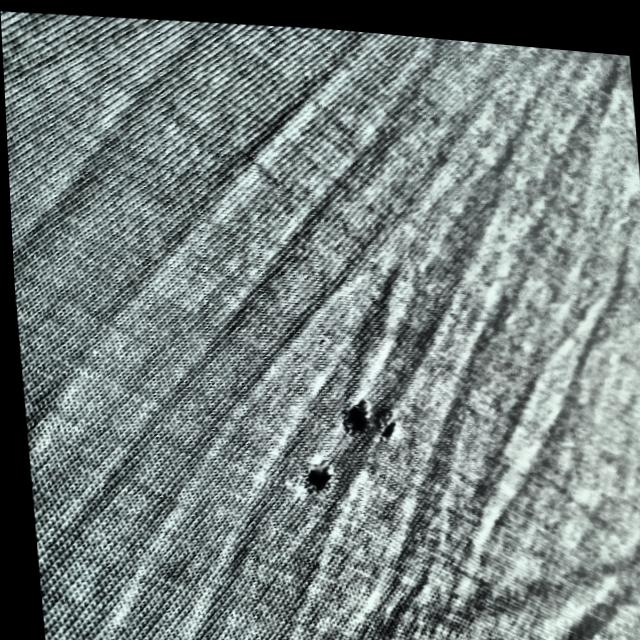Hole: (324, 394, 365, 447), (291, 458, 331, 493), (367, 408, 403, 438)
